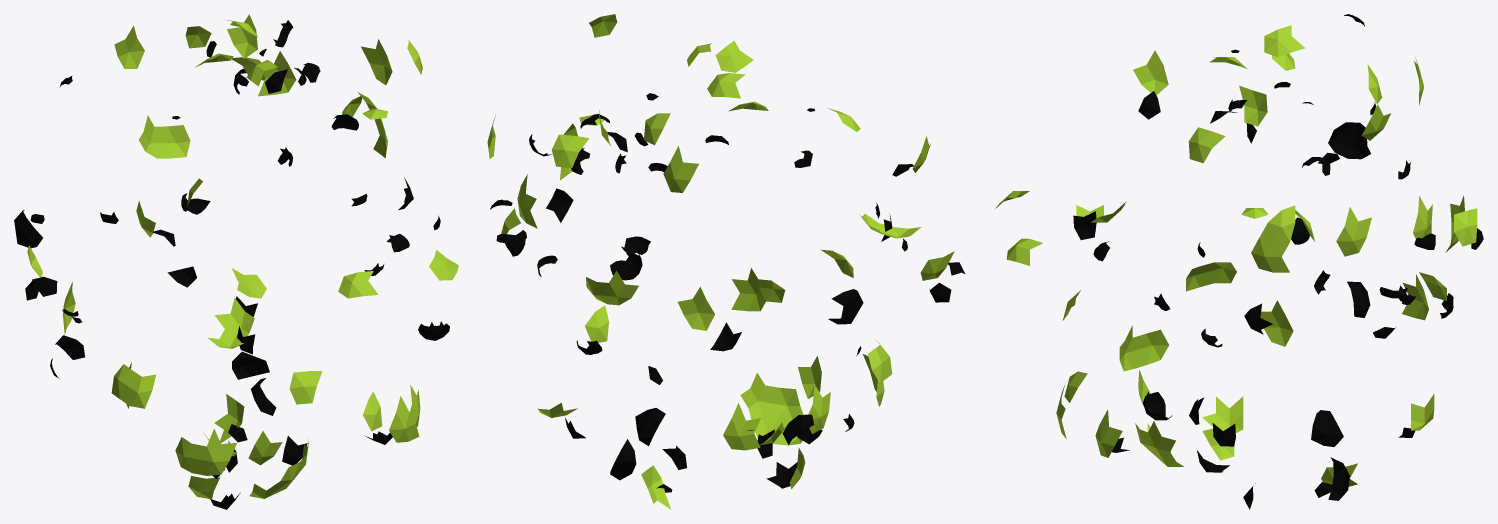
Rendered from explode.f0011.glb.
The picture shows the model from 3 angles, left to right: view 1: azimuth 30°, elevation 25°; view 2: azimuth 150°, elevation 25°; view 3: azimuth 270°, elevation 25°; orthographic projection. The views are drawn at different scales.
Parts seen in each view (by area): view 1: Body.001; view 2: Body.001; view 3: Body.001.
Boxes of the visible parts, x1,y1,x2,y2 form: Body.001: [14, 14, 458, 509]; Body.001: [487, 14, 964, 509]; Body.001: [995, 14, 1483, 509].
Bounding box in the file's own units: 8.9 × 9.36 × 8.93.
1 material, 1 textured.
